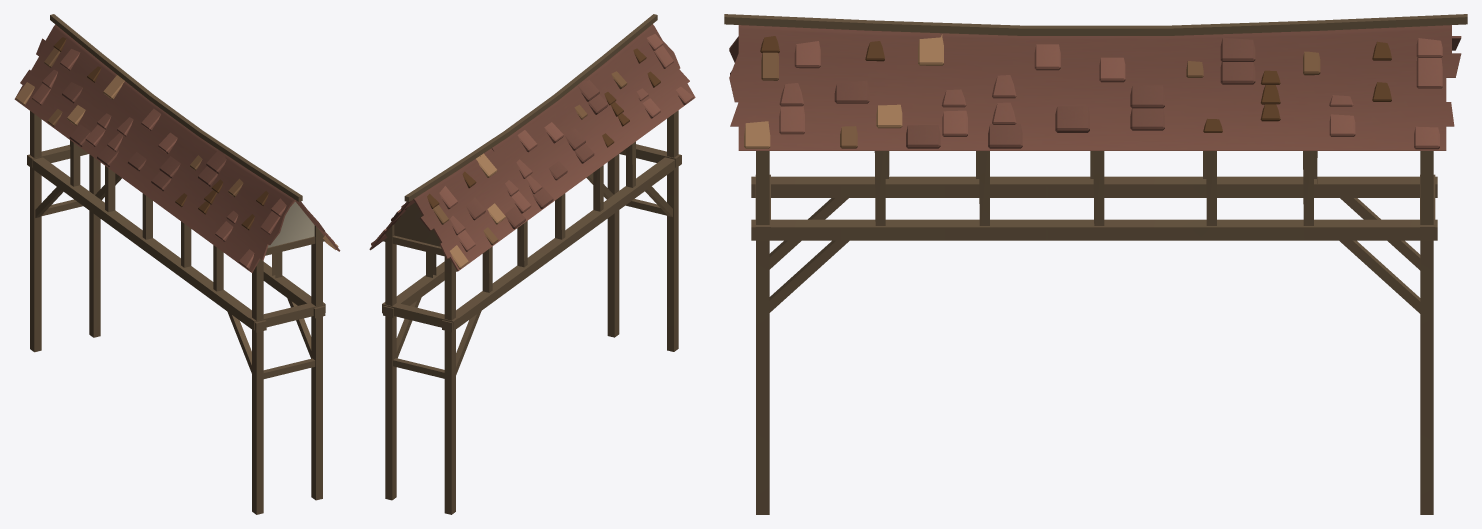
File: ZLP_Build_B_14.FBX
3 views of the same model, side by side, from view 1: azimuth 30°, elevation 25°; view 2: azimuth 150°, elevation 25°; view 3: azimuth 270°, elevation 25° (orthographic). The views are drawn at different scales.
Parts seen in each view (by area): view 1: ZLP_Build_B_14; view 2: ZLP_Build_B_14; view 3: ZLP_Build_B_14.
Part boxes in pixels (x1,y1,x2,y2): ZLP_Build_B_14: (14, 14, 340, 514); ZLP_Build_B_14: (369, 14, 695, 514); ZLP_Build_B_14: (724, 14, 1467, 514).
Bounding box in the file's own units: 207 × 684 × 969.
